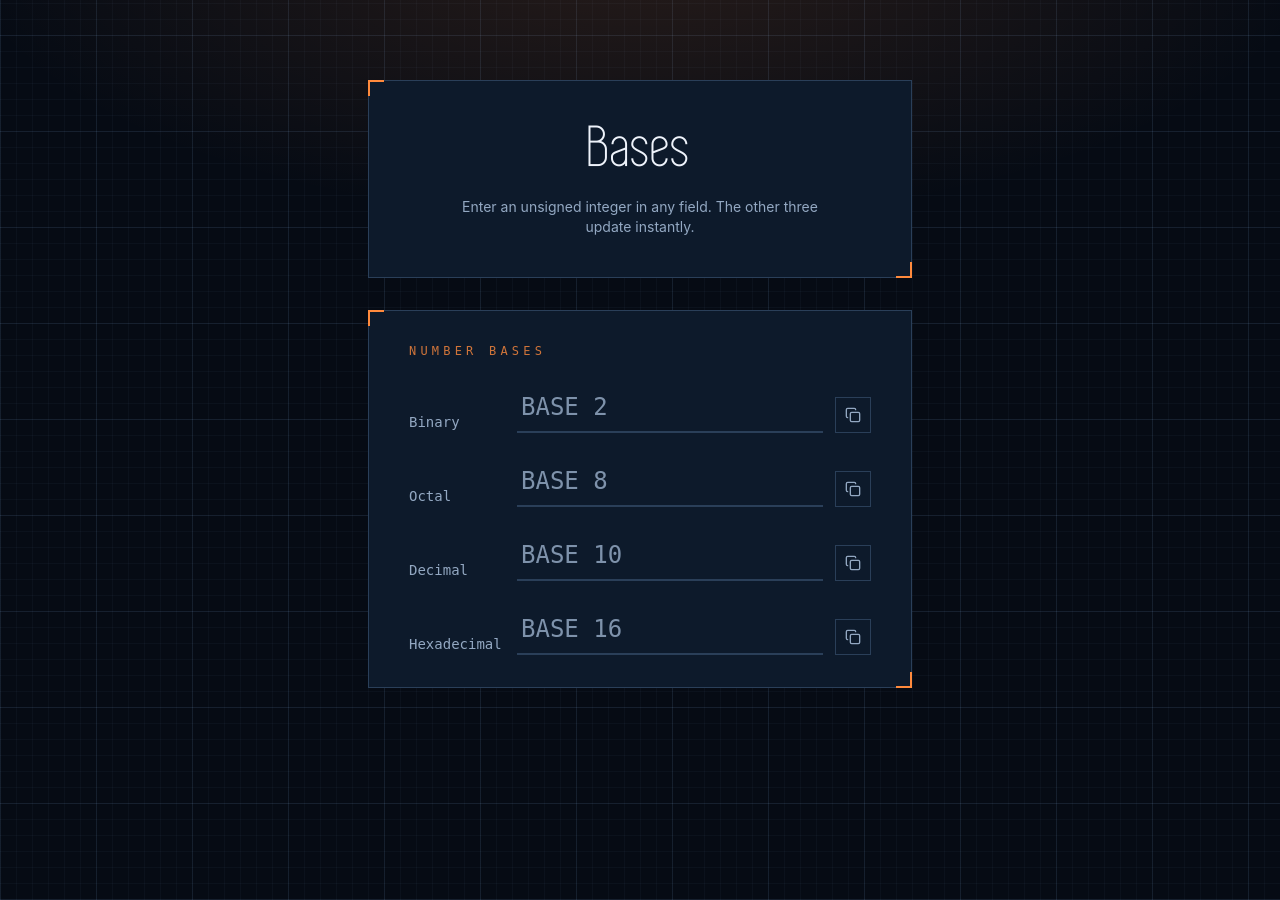
BasesView › syncs all fields when a value is entered in one of them
Type "255" into the field with id "decimal" at x=670, y=556, box [517,531,823,581]
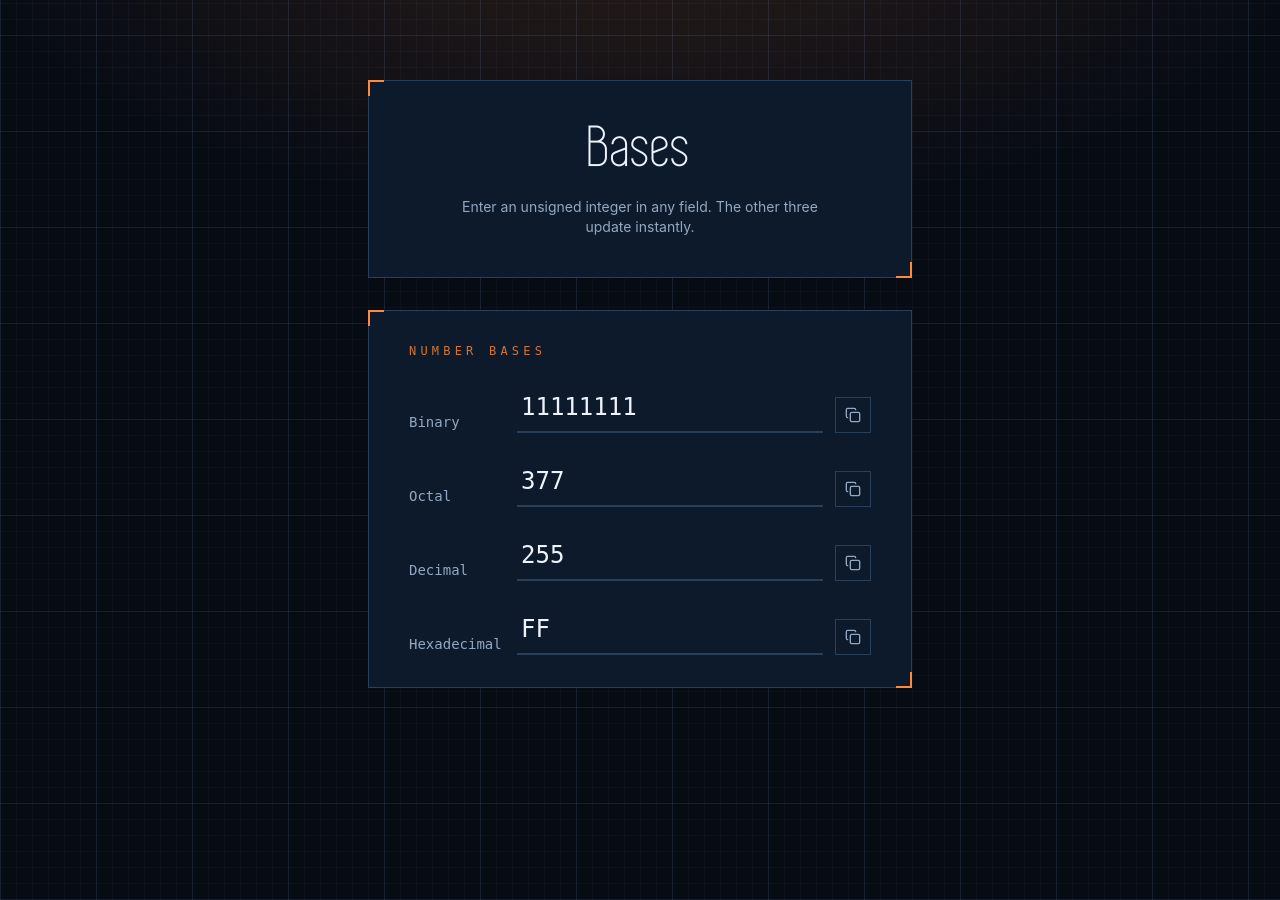
expect the field with id "binary" holds "11111111": met, box [517,383,823,433]
expect the field with id "octal" holds "377": met, box [517,457,823,507]
expect the field with id "hex" holds "FF": met, box [517,605,823,655]
